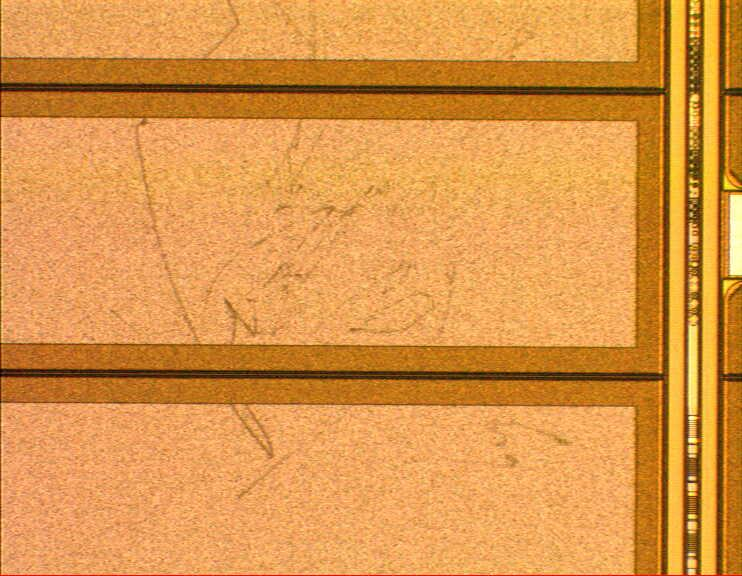SCRATCH: (129, 1, 577, 511)
